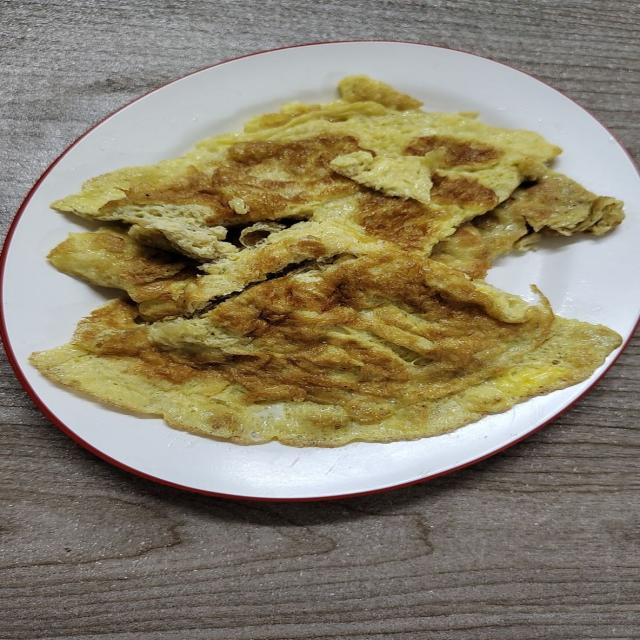omelette: (32, 77, 622, 445)
